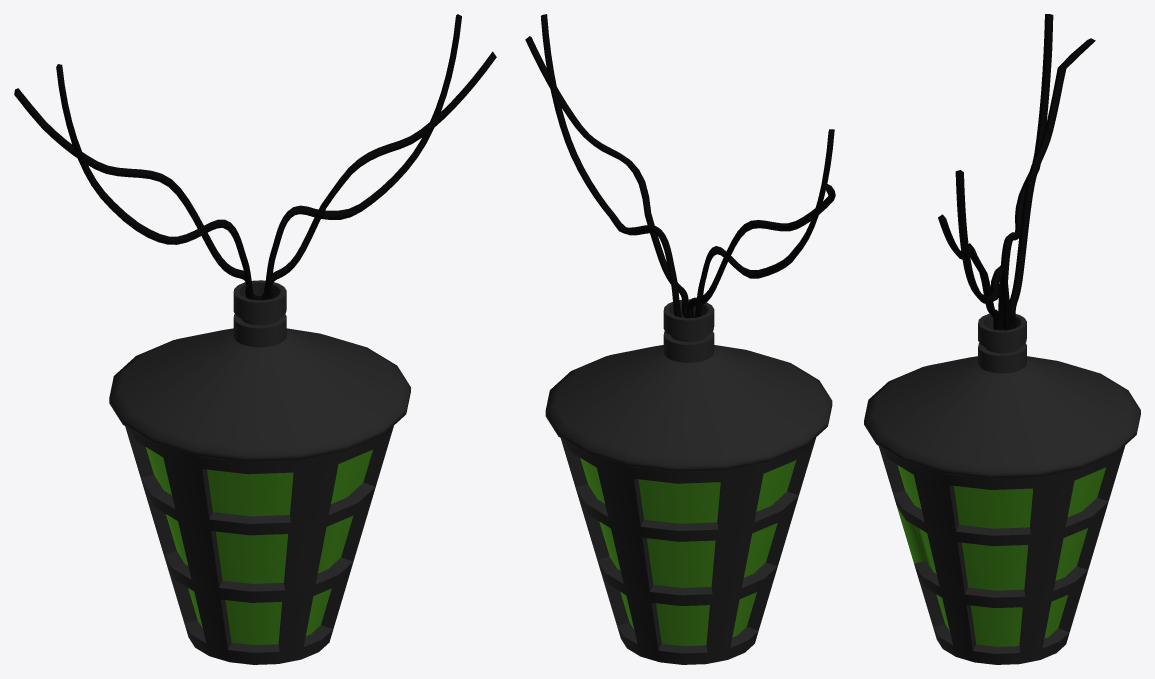
Rendered from Hanging_Lantern.FBX.
The picture shows the model from 3 angles, left to right: view 1: azimuth 30°, elevation 25°; view 2: azimuth 150°, elevation 25°; view 3: azimuth 270°, elevation 25°; orthographic projection. The views are drawn at different scales.
Visible parts, largest first — view 1: Cylinder130; view 2: Cylinder130; view 3: Cylinder130.
Boxes of the visible parts, x1,y1,x2,y2 form: Cylinder130: (14,14,496,664); Cylinder130: (525,14,835,664); Cylinder130: (864,14,1140,664).
Bounding box in the file's own units: 236 × 340 × 154.
